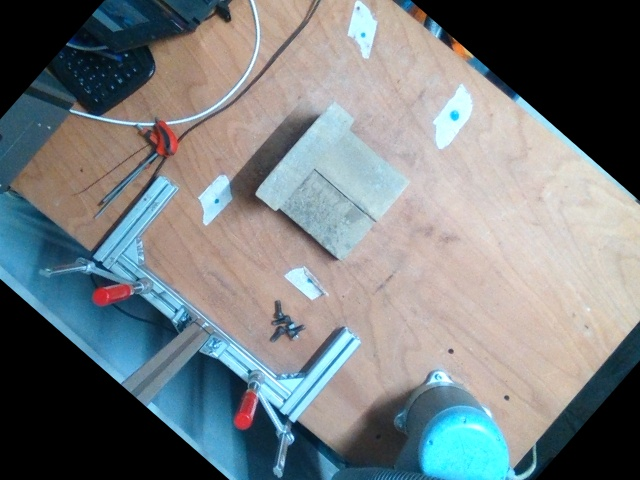brick-side: (255, 101, 354, 209)
